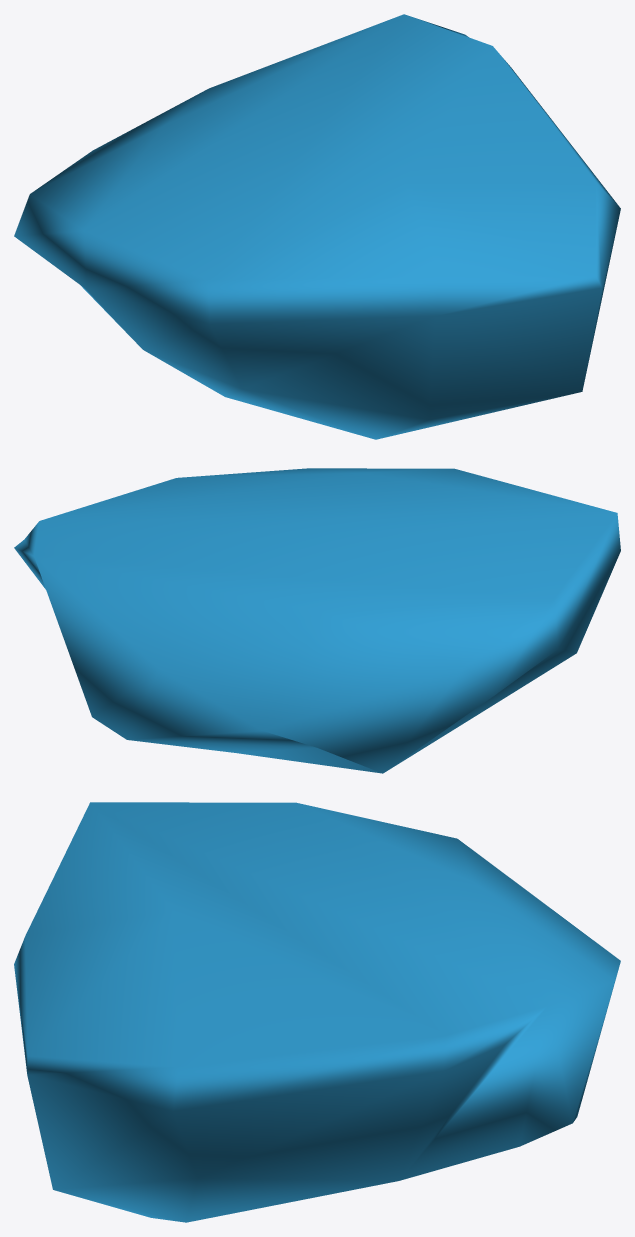
The model's file is Rock_S_01_Lod1.fbx.
3 views of the same model, one above another, from view 1: azimuth 30°, elevation 25°; view 2: azimuth 150°, elevation 25°; view 3: azimuth 270°, elevation 25° (orthographic). The views are drawn at different scales.
Visible parts, largest first — view 1: Rock_S_01_Lod1; view 2: Rock_S_01_Lod1; view 3: Rock_S_01_Lod1.
Part boxes in pixels (x1,y1,x2,y2): Rock_S_01_Lod1: (14, 14, 620, 439); Rock_S_01_Lod1: (14, 468, 620, 773); Rock_S_01_Lod1: (14, 802, 620, 1222).
Size of the model in its own units: 452 by 214 by 442.
